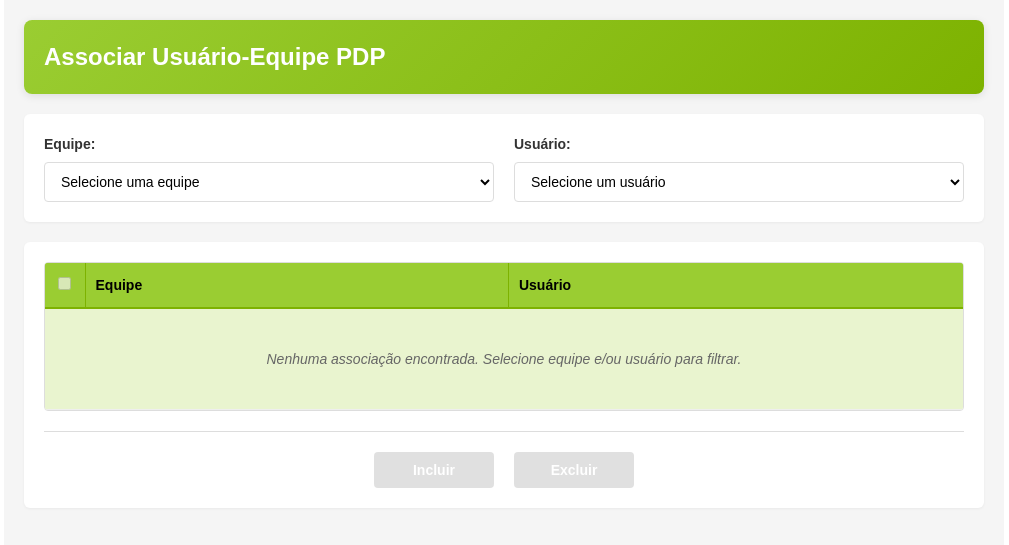
Test: UserTeamAssociation Component › Seleção de Itens › deve desselecionar todos ao desmarcar "Selecionar Todos"
The image size is (1009, 545).
Select "EQUIPE ALPHA" in the dropdown with test id "equipe-select": [269, 182] box [44,162,494,202]
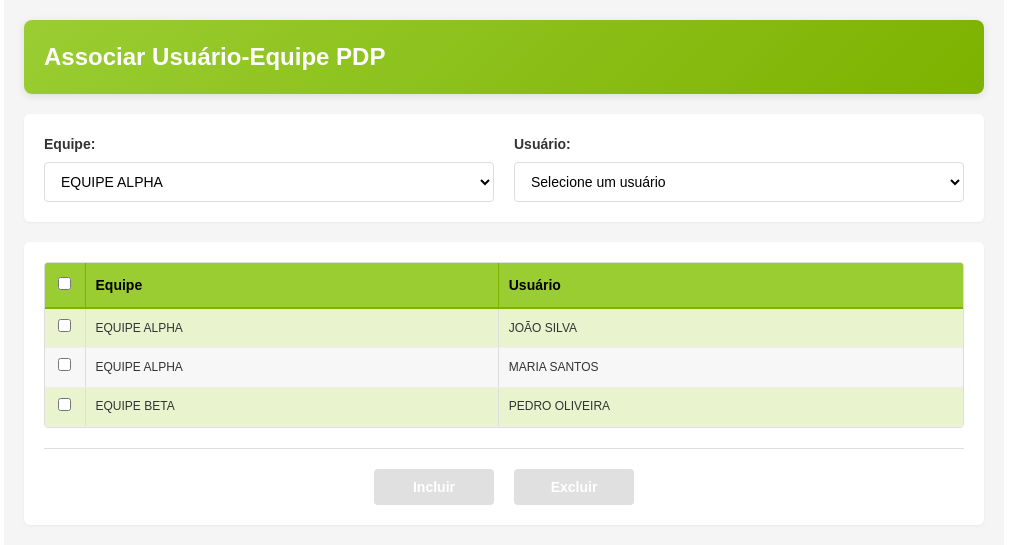
Click the checkbox with test id "select-all-checkbox": [65, 284] box [58,277,71,290]
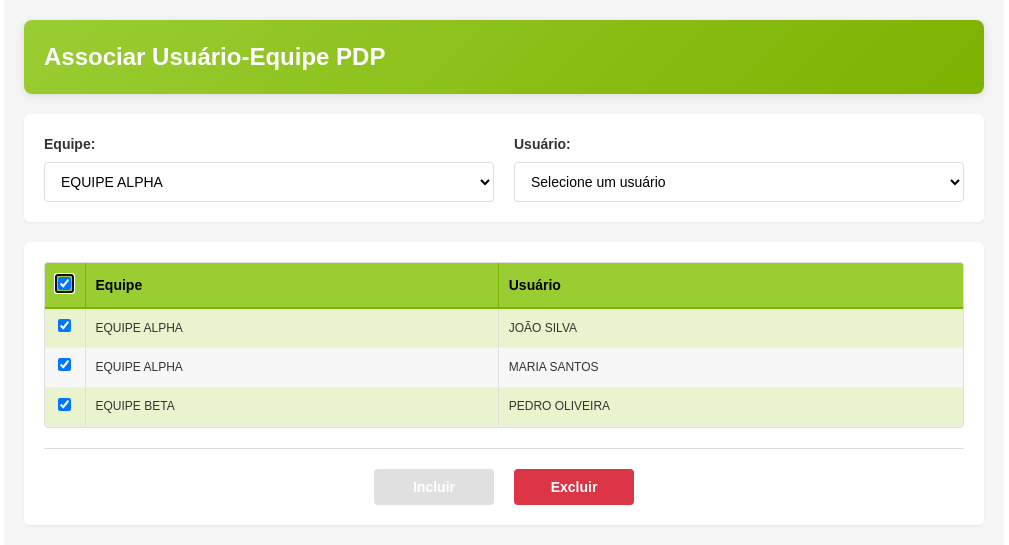
Click the checkbox with test id "select-all-checkbox": [65, 284] box [58,277,71,290]
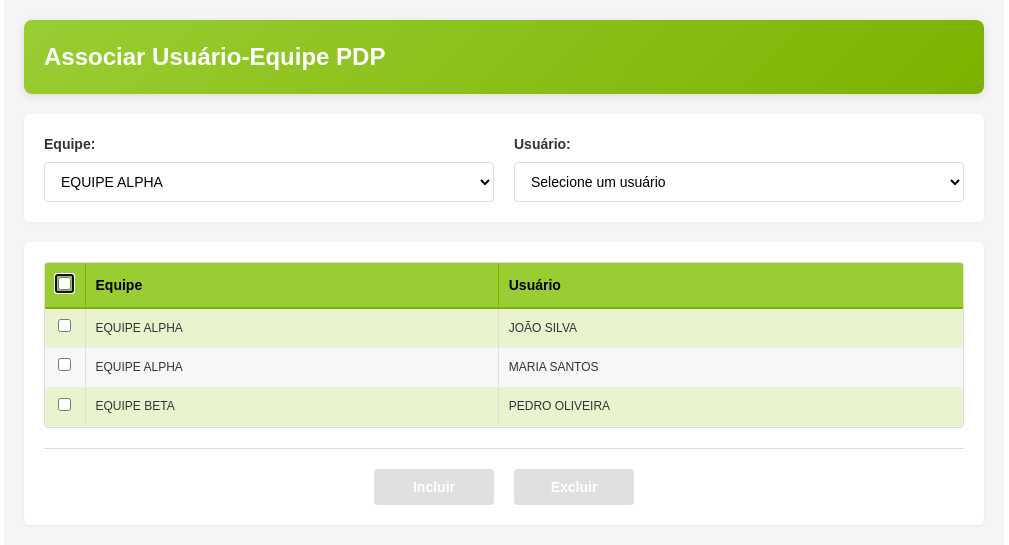
Expected: the checkbox with test id "checkbox-1" is not checked, [58,319,71,332]
